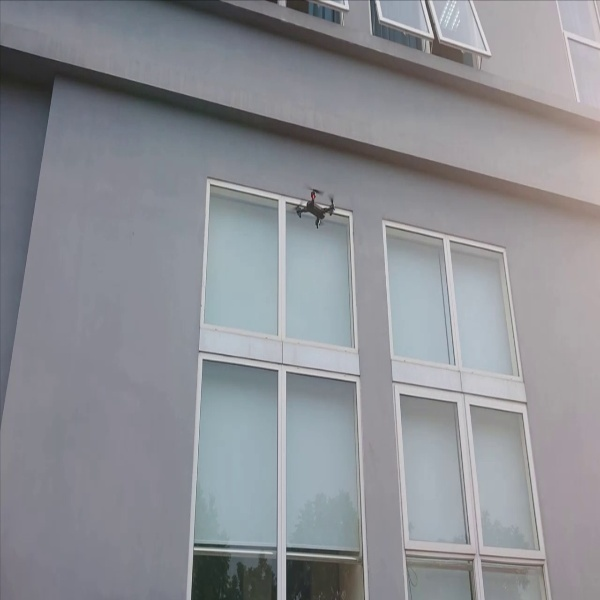drone: (288, 183, 343, 230)
